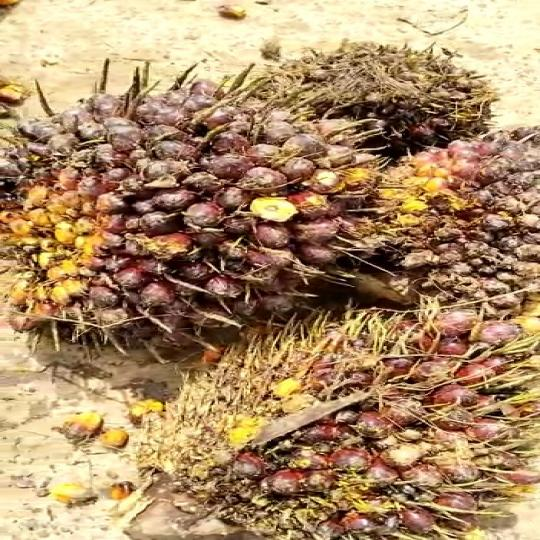kurang masak: (112, 302, 540, 540), (0, 73, 368, 332), (258, 54, 539, 156)
